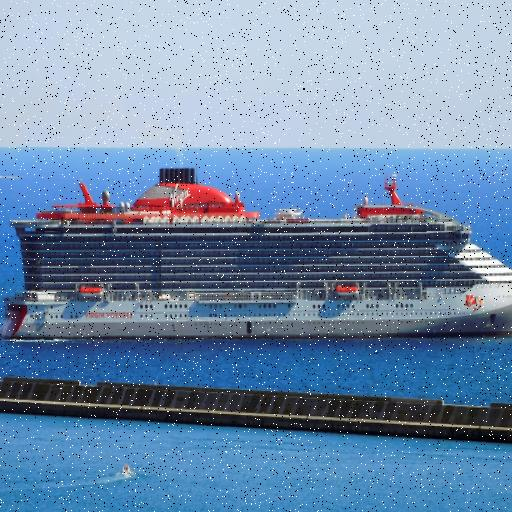cruises: (5, 154, 512, 348)
